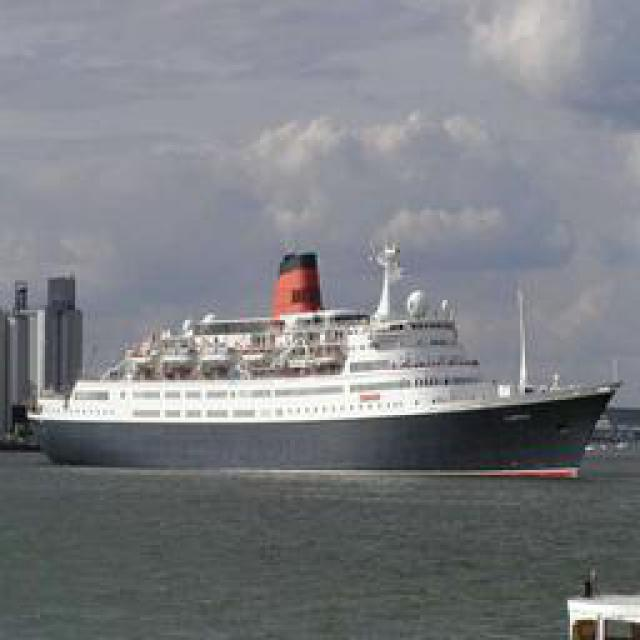Ship: (22, 234, 630, 477)
